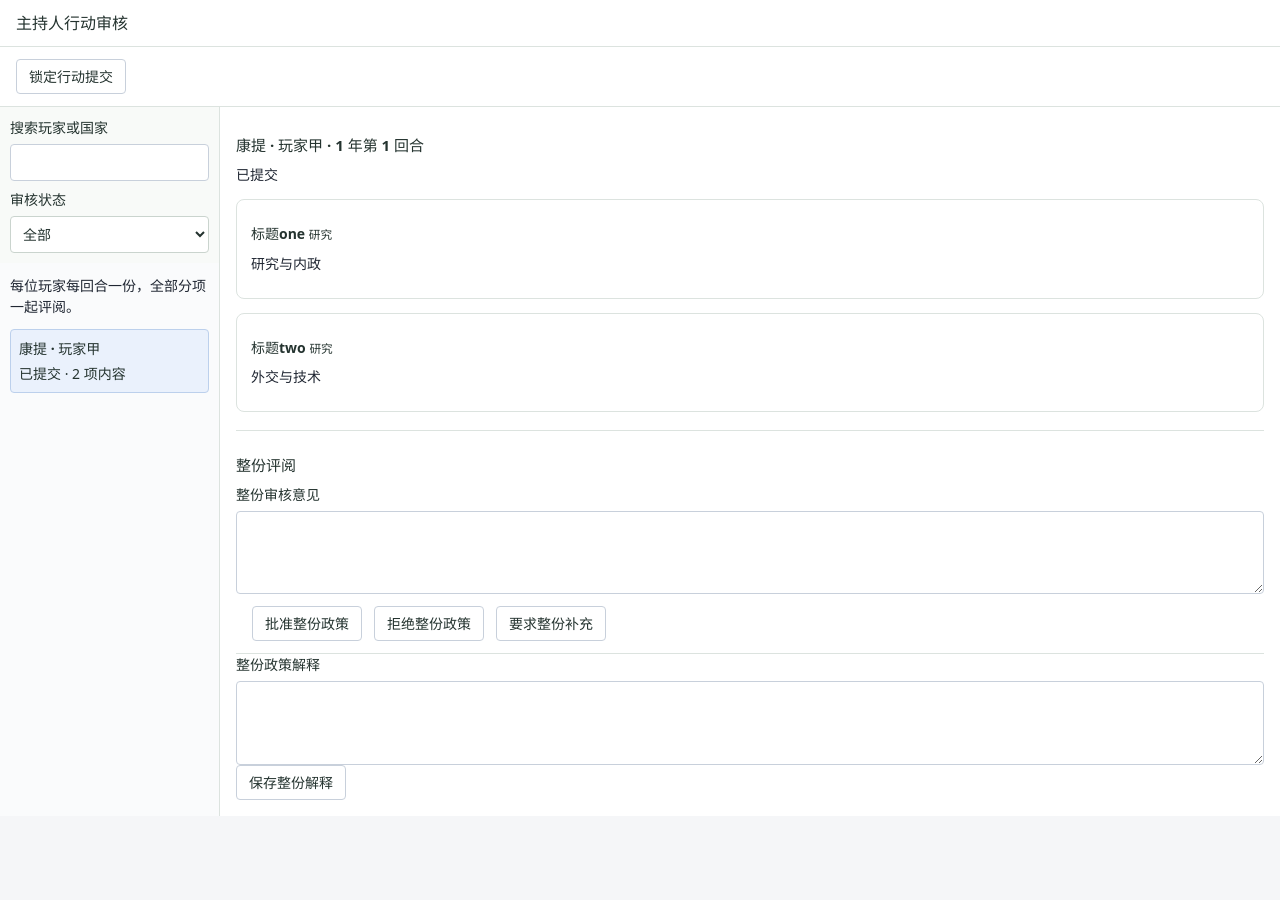
it: retains in-page opinions and refuses to overwrite another tab draft
Step 1. Type "第一页面的审核意见" into the text box labelled "整份审核意见" → (750, 553), box [236, 511, 1264, 594]
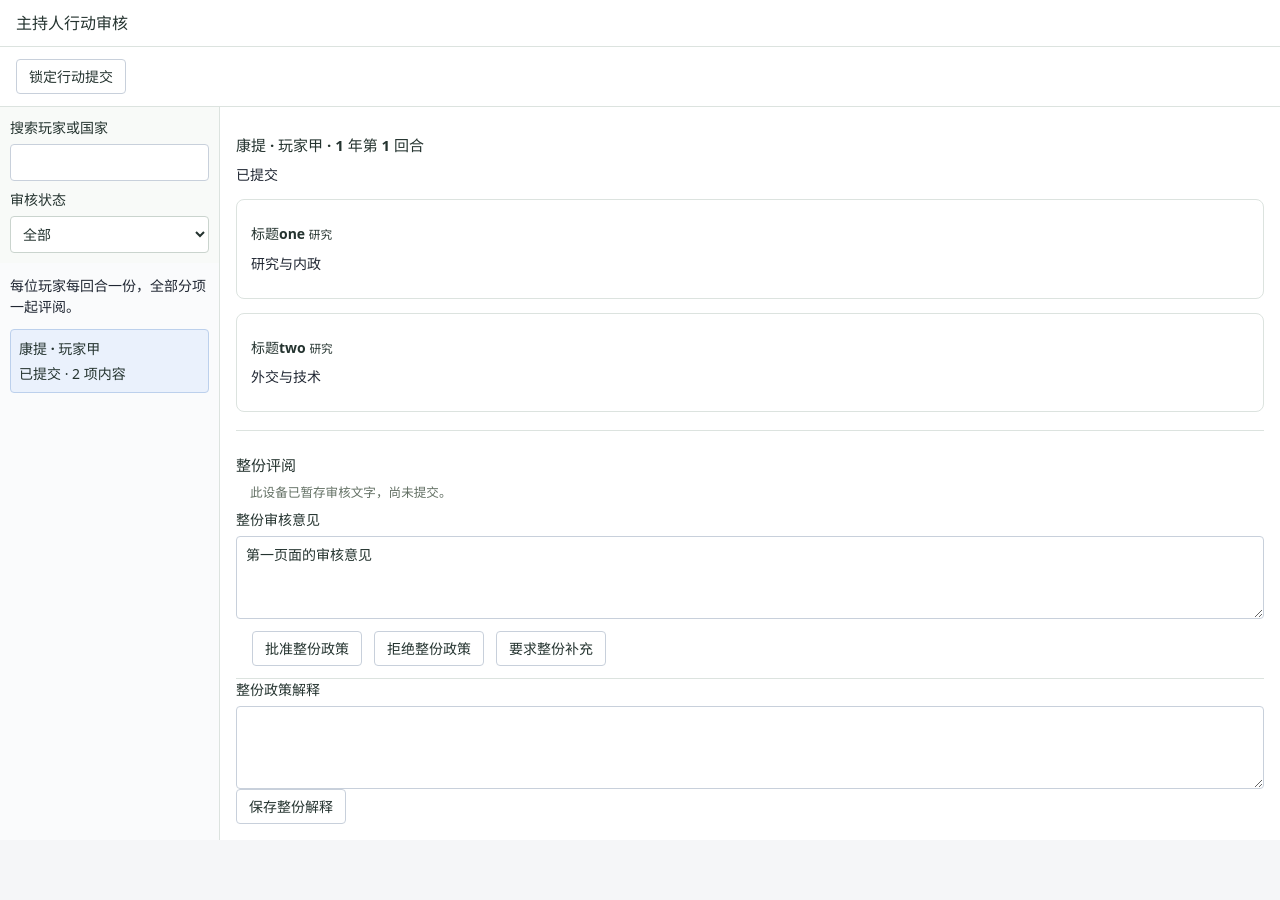
Step 2. Replace the text in the text box labelled "整份审核意见" with "本页继续写但不能覆盖另一页" → (750, 577), box [236, 536, 1264, 619]
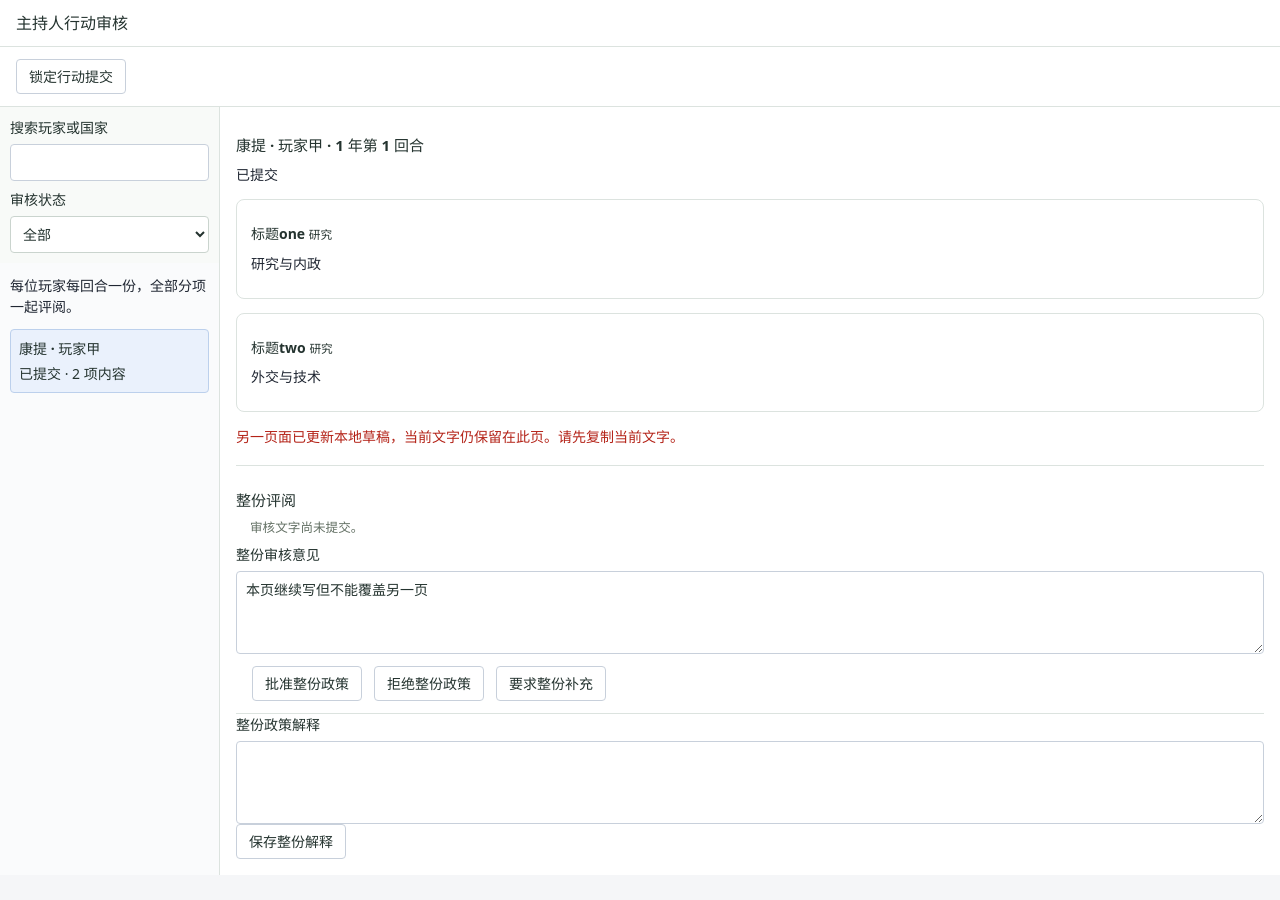
Expected: the message "另一页面已更新本地草稿，当前文字仍保留在此页。请先复制当前文字。" is shown, [236, 427, 684, 446]
